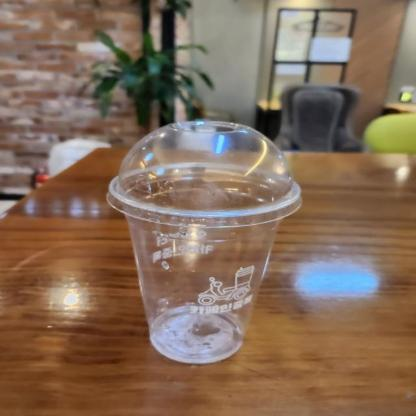Plastic Cup: (107, 115, 299, 363)
